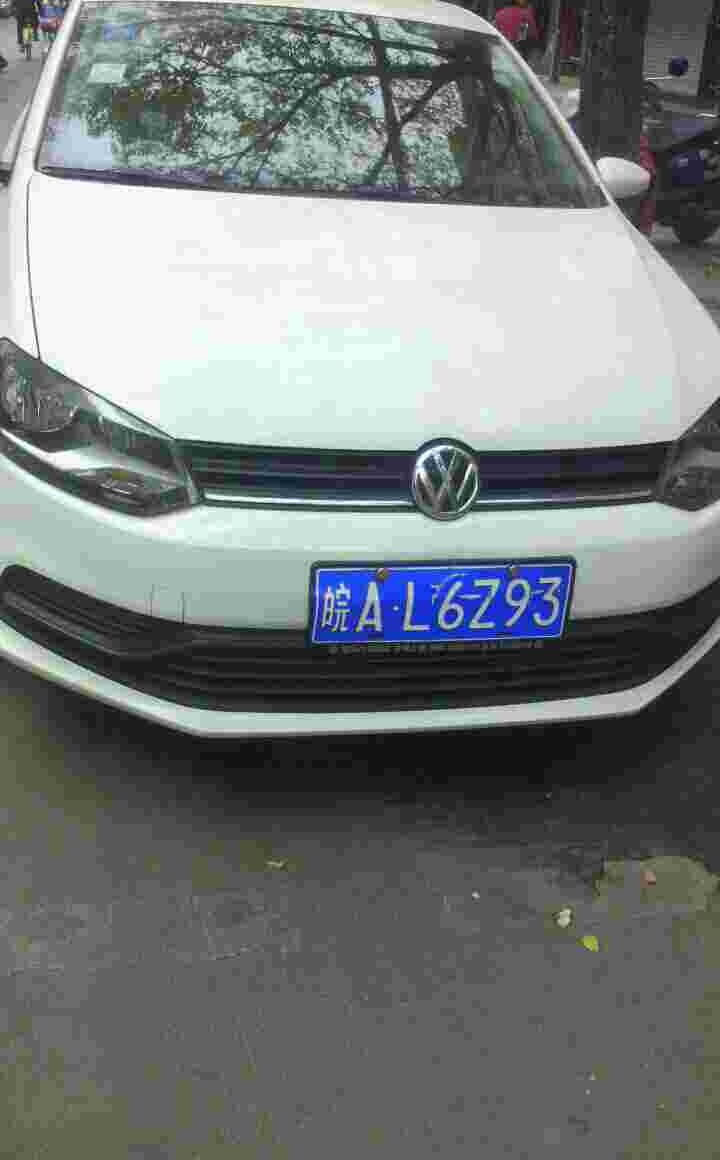license_plate: (308, 566, 568, 648)
